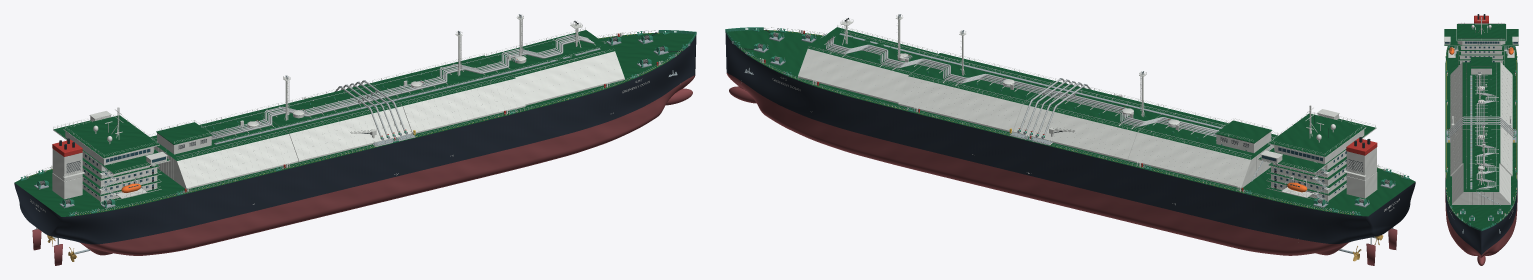
The model's file is lng-changheng-ship-lod0.glb.
3 renders of one model, left to right at view 1: azimuth 30°, elevation 25°; view 2: azimuth 150°, elevation 25°; view 3: azimuth 270°, elevation 25°, orthographic. The views are drawn at different scales.
Parts seen in each view (by area): view 1: Hull.shell, Cargo.Tank2.trunk, Cargo.Tank4.trunk, Cargo.Tank3.trunk, Cargo.Tank1.trunk, Piping.insulated-main-lines, House.external-decks, House.structure, Piping.grating-supports, House.deck-overhangs, Cargo.roof-rails, Deck.mooring-machines (+13 smaller); view 2: Hull.shell, Cargo.Tank2.trunk, Cargo.Tank4.trunk, Cargo.Tank3.trunk, Cargo.Tank1.trunk, Piping.insulated-main-lines, House.external-decks, House.structure, Cargo.roof-rails, Piping.grating-supports, House.deck-overhangs, Deck.perimeter-rails (+12 smaller); view 3: Hull.shell, Cargo.Tank1.trunk, Cargo.Tank2.trunk, Cargo.Tank3.trunk, Cargo.Tank4.trunk, Piping.insulated-main-lines, House.external-decks, House.structure, House.deck-overhangs, Piping.support-shoes, Piping.grating-supports, Cargo.compressor-roof (+17 smaller).
Boxes of the visible parts, x1,y1,x2,y2 form: Hull.shell: (14, 32, 696, 255); Cargo.Tank2.trunk: (371, 55, 525, 133); Cargo.Tank4.trunk: (150, 111, 298, 189); Cargo.Tank3.trunk: (258, 83, 412, 162); Cargo.Tank1.trunk: (486, 30, 624, 105); Piping.insulated-main-lines: (153, 33, 602, 156); House.external-decks: (53, 115, 169, 203); House.structure: (82, 115, 166, 201); Piping.grating-supports: (214, 48, 600, 146); House.deck-overhangs: (49, 111, 170, 200); Cargo.roof-rails: (148, 27, 612, 159); Deck.mooring-machines: (20, 30, 696, 216); Hull.shell: (725, 30, 1415, 255); Cargo.Tank2.trunk: (898, 53, 1053, 132); Cargo.Tank4.trunk: (1128, 109, 1277, 188); Cargo.Tank3.trunk: (1013, 81, 1168, 160); Cargo.Tank1.trunk: (798, 27, 937, 103); Piping.insulated-main-lines: (821, 31, 1274, 155); House.external-decks: (1259, 113, 1375, 202); House.structure: (1261, 113, 1346, 200); Cargo.roof-rails: (808, 25, 1280, 178); Piping.grating-supports: (839, 33, 1222, 144); House.deck-overhangs: (1258, 109, 1379, 199); Deck.perimeter-rails: (739, 18, 1408, 214); Hull.shell: (1445, 46, 1517, 265); Cargo.Tank1.trunk: (1452, 163, 1510, 204); Cargo.Tank2.trunk: (1450, 129, 1512, 176); Cargo.Tank3.trunk: (1450, 95, 1512, 141); Cargo.Tank4.trunk: (1450, 62, 1512, 107); Piping.insulated-main-lines: (1447, 63, 1515, 188); House.external-decks: (1444, 24, 1518, 65); House.structure: (1444, 42, 1518, 63); House.deck-overhangs: (1444, 24, 1518, 65); Piping.support-shoes: (1446, 75, 1516, 189); Piping.grating-supports: (1446, 75, 1516, 189); Cargo.compressor-roof: (1470, 57, 1492, 68).
Bounding box in the file's own units: 299 × 58.45 × 48.2.
17 materials, 5 textured.
